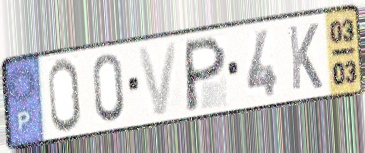0: (46, 56, 84, 135), (91, 52, 127, 125)
4: (245, 27, 280, 100)
K: (286, 21, 325, 93)
P: (184, 33, 229, 114)
V: (135, 40, 180, 119)
